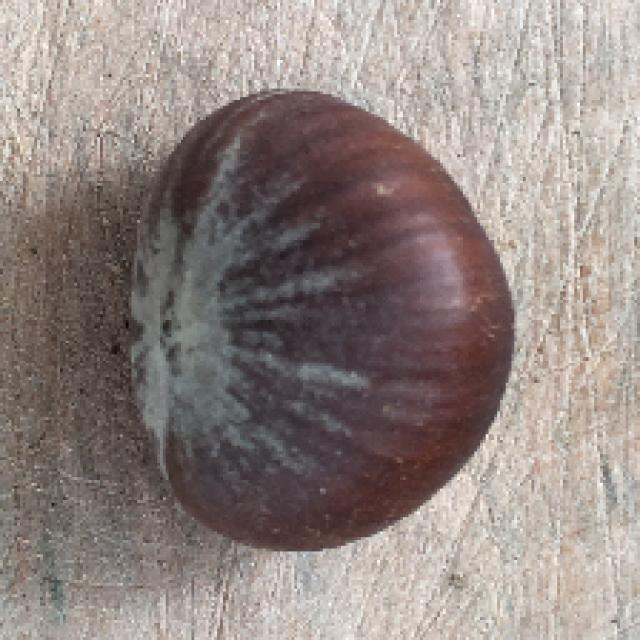damagedHazelnut: (103, 77, 525, 554)
